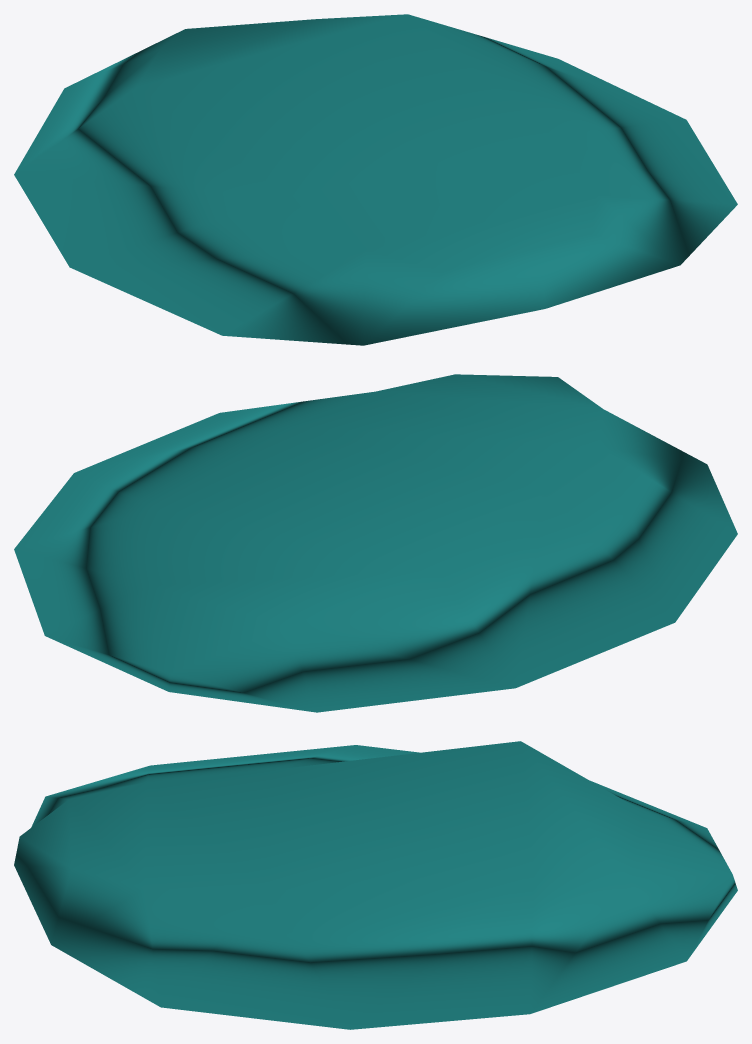
The model's file is skipping_rope_collider.fbx.
3 views of the same model, one above another, from view 1: azimuth 30°, elevation 25°; view 2: azimuth 150°, elevation 25°; view 3: azimuth 270°, elevation 25° (orthographic). The views are drawn at different scales.
Visible parts, largest first — view 1: skipping_rope_collider; view 2: skipping_rope_collider; view 3: skipping_rope_collider.
Part boxes in pixels (<box>): skipping_rope_collider: <box>14,14,737,345</box>; skipping_rope_collider: <box>14,374,737,712</box>; skipping_rope_collider: <box>14,741,737,1029</box>.
Size of the model in its own units: 30.49 by 3.76 by 32.74.
